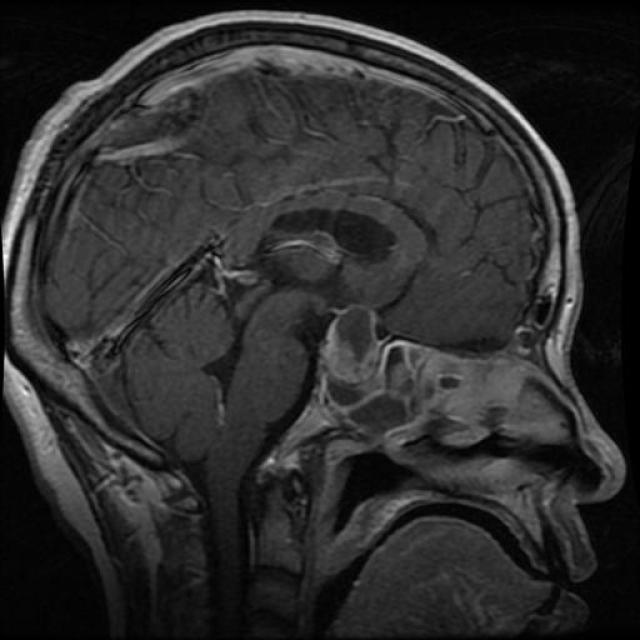pituitary: (312, 282, 418, 421)
